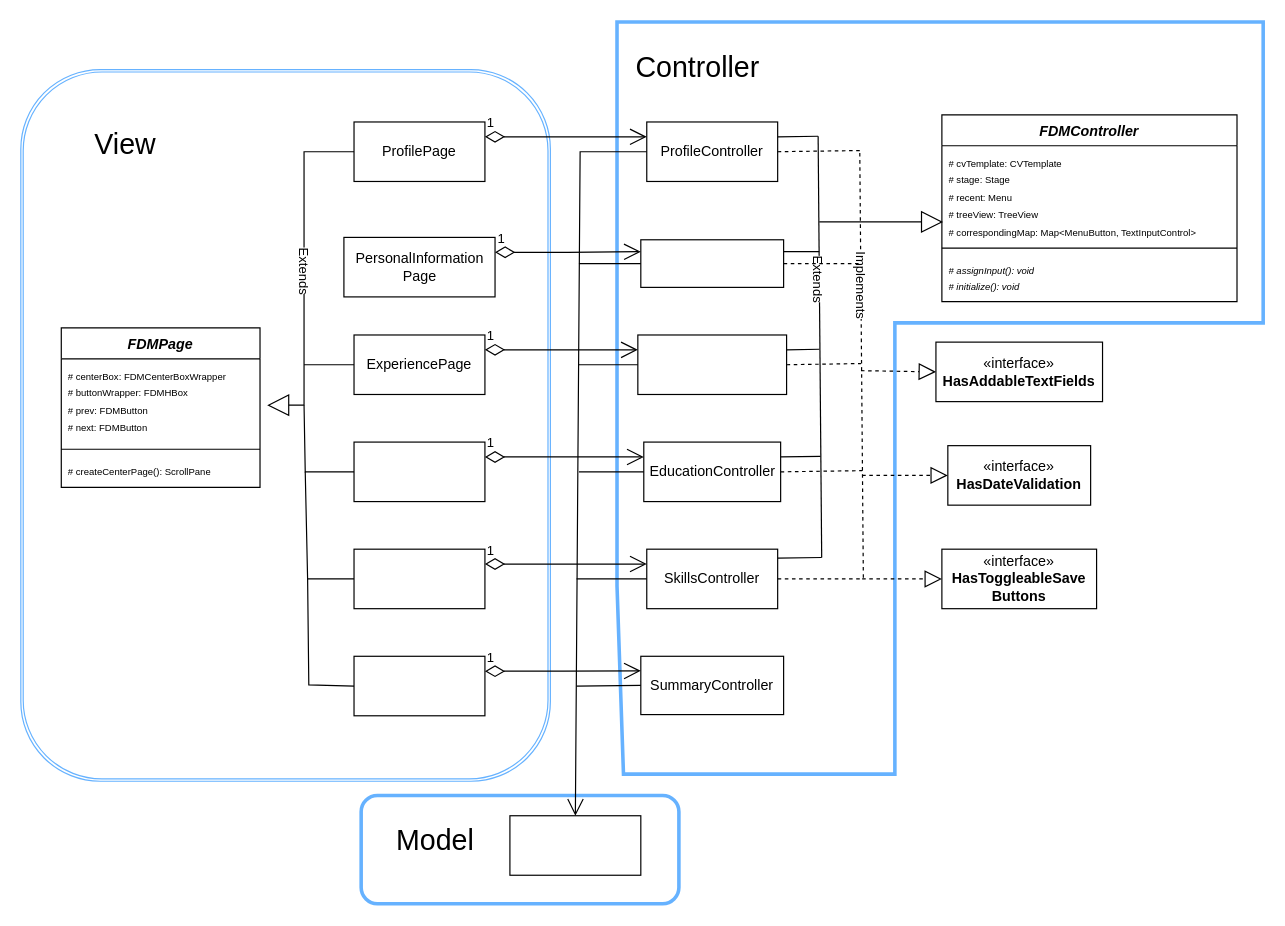
This 1285x926 diagram has some shape labels left out. Each missing label, with the centre of its shape:
"CVTemplate" belongs at (x=575, y=845).
"EducationPage" belongs at (x=419, y=471).
"ExperienceController" belongs at (x=712, y=364).
"PersonalInformation Controller" belongs at (x=712, y=263).
"SkillsPage" belongs at (x=419, y=578).
"SummaryPage" belongs at (x=419, y=685).
